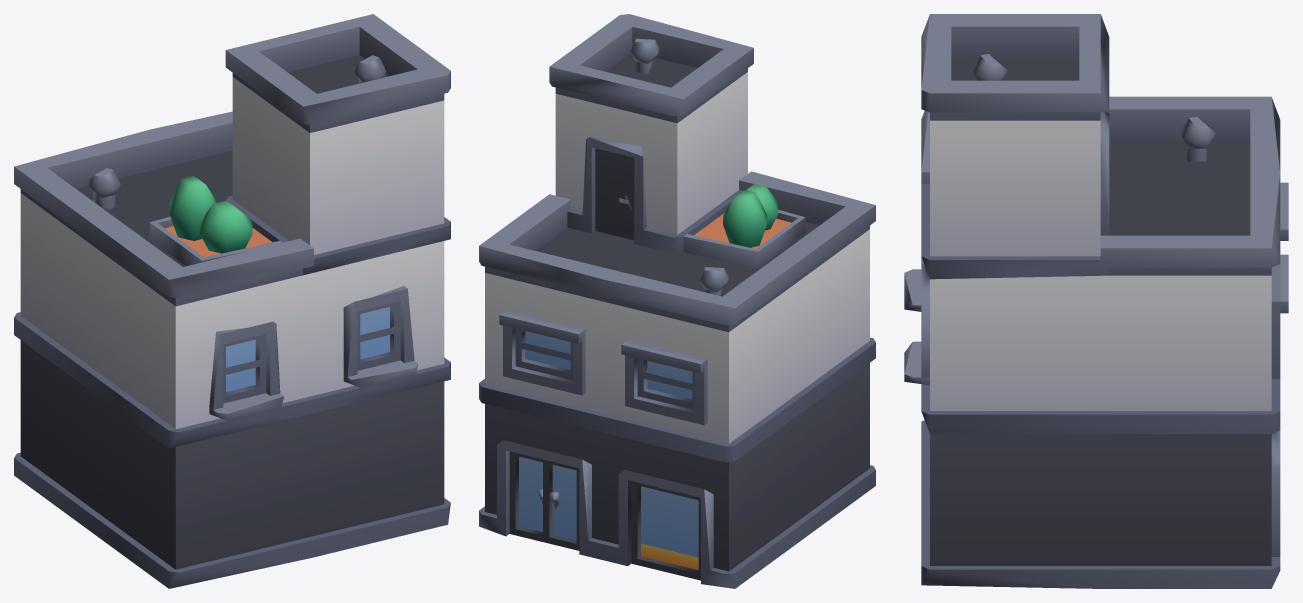
The model's file is 078_city-kit-commercial_building-d_card.glb.
3 views of the same model, side by side, from view 1: azimuth 30°, elevation 25°; view 2: azimuth 150°, elevation 25°; view 3: azimuth 270°, elevation 25° (orthographic). The views are drawn at different scales.
Parts seen in each view (by area): view 1: building-d; view 2: building-d; view 3: building-d.
Boxes of the visible parts, <box> form: building-d: <box>14,14,450,588</box>; building-d: <box>479,14,875,588</box>; building-d: <box>904,14,1288,588</box>.
Size of the model in its own units: 0.84 by 1.29 by 0.9.
Materials: 1 (1 with a texture image).
